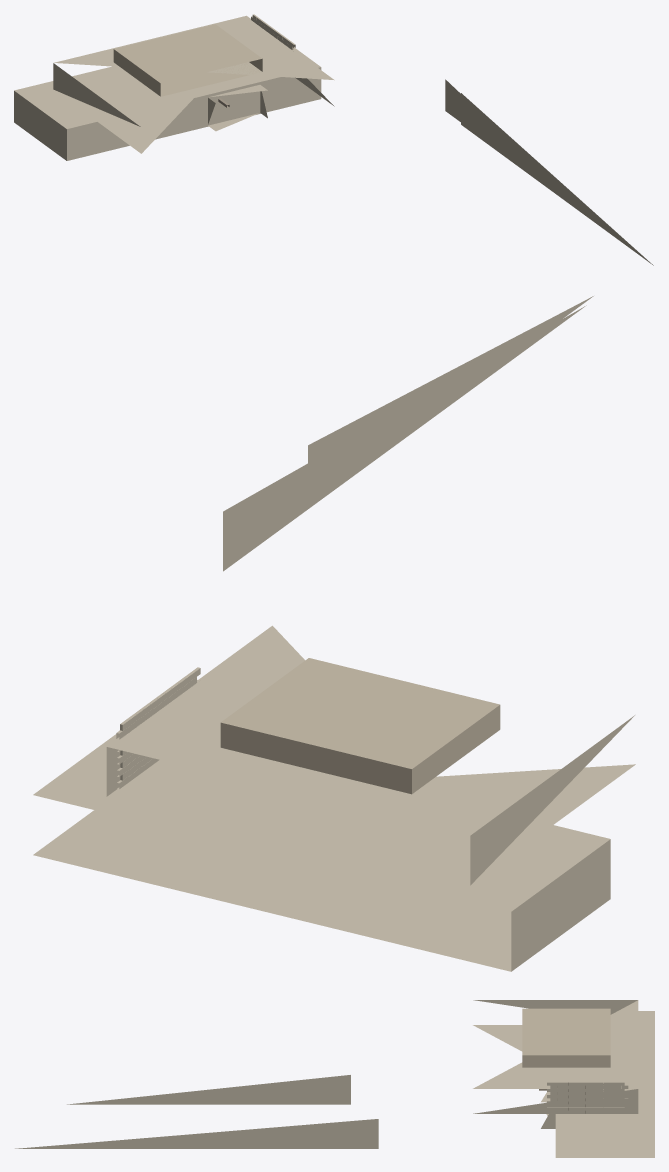
Rendered from chavin_plaza_lod0.glb.
3 renders of one model, top to bottom at view 1: azimuth 30°, elevation 25°; view 2: azimuth 150°, elevation 25°; view 3: azimuth 270°, elevation 25°, orthographic. The views are drawn at different scales.
Visible parts, largest first — view 1: chavin_plaza; view 2: chavin_plaza; view 3: chavin_plaza.
Boxes of the visible parts, box(x1,y1,x2,y2) form: chavin_plaza: box(14, 14, 653, 265); chavin_plaza: box(33, 296, 635, 971); chavin_plaza: box(15, 1000, 654, 1157).
Size of the model in its own units: 59 by 18 by 116.
